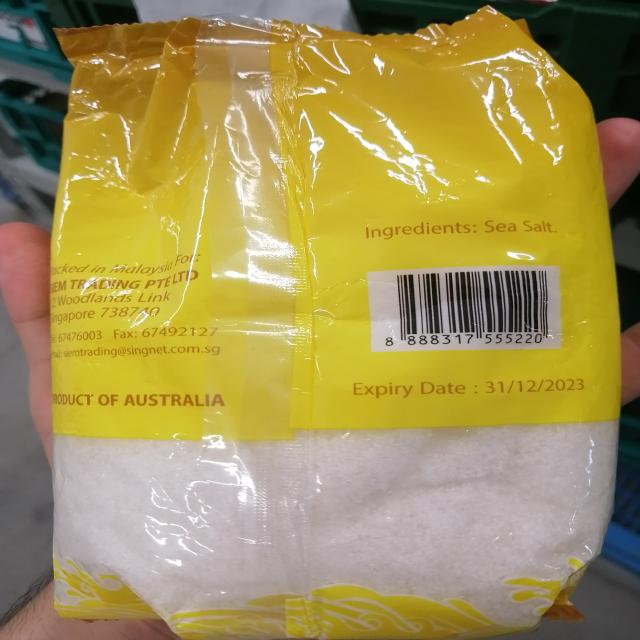object_name: (62, 43, 596, 630)
